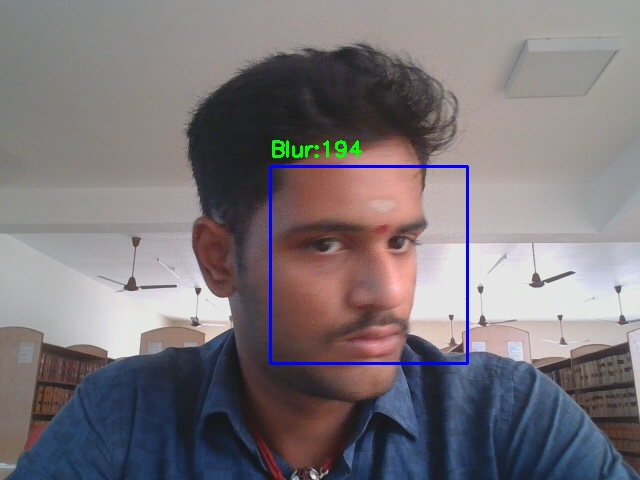real: (270, 166, 467, 363)
